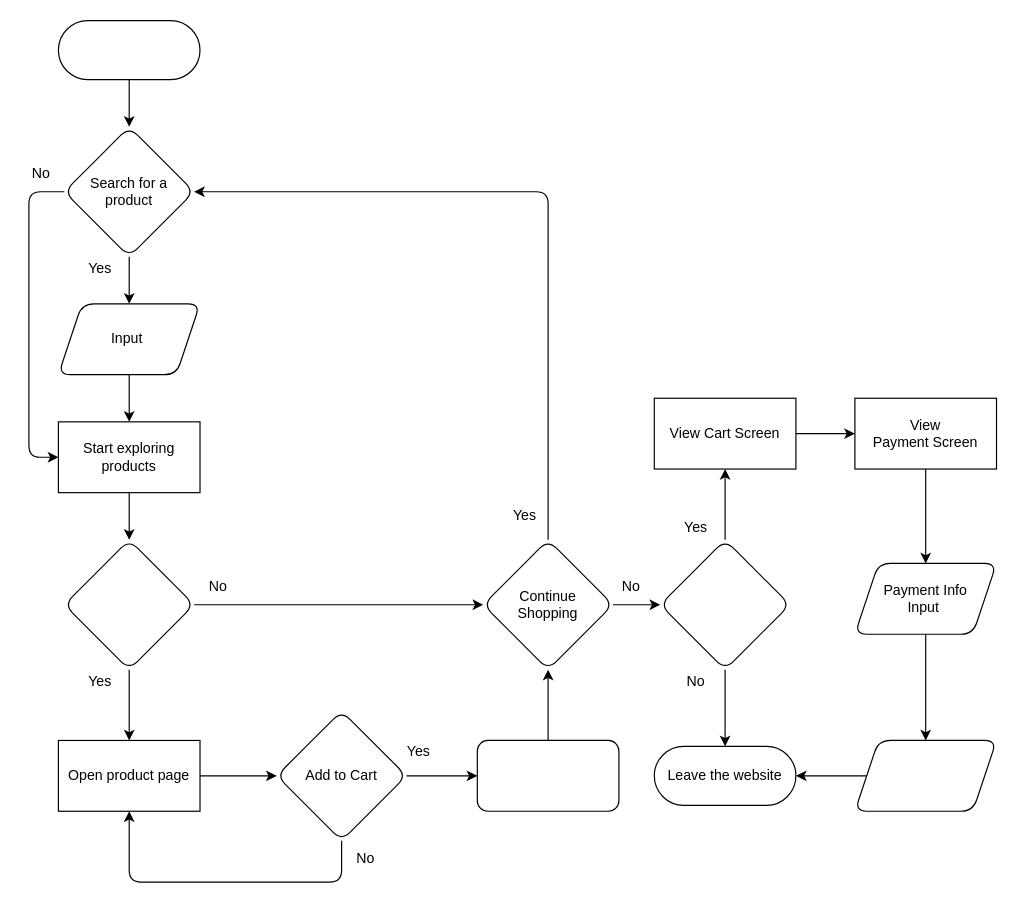
The diagram is 1017 pixels wide and 912 high, and some of its shapes have lost their labels. Here are the shapes that lost their labels. From the top down, the box of each, then its label:
(57, 19, 200, 80): Enter the website
(63, 539, 194, 670): View a specific product
(659, 539, 790, 670): Checkout
(476, 739, 619, 811): Recieve added to cart confirmation
(854, 739, 997, 811): Order Confirmation/ Email
